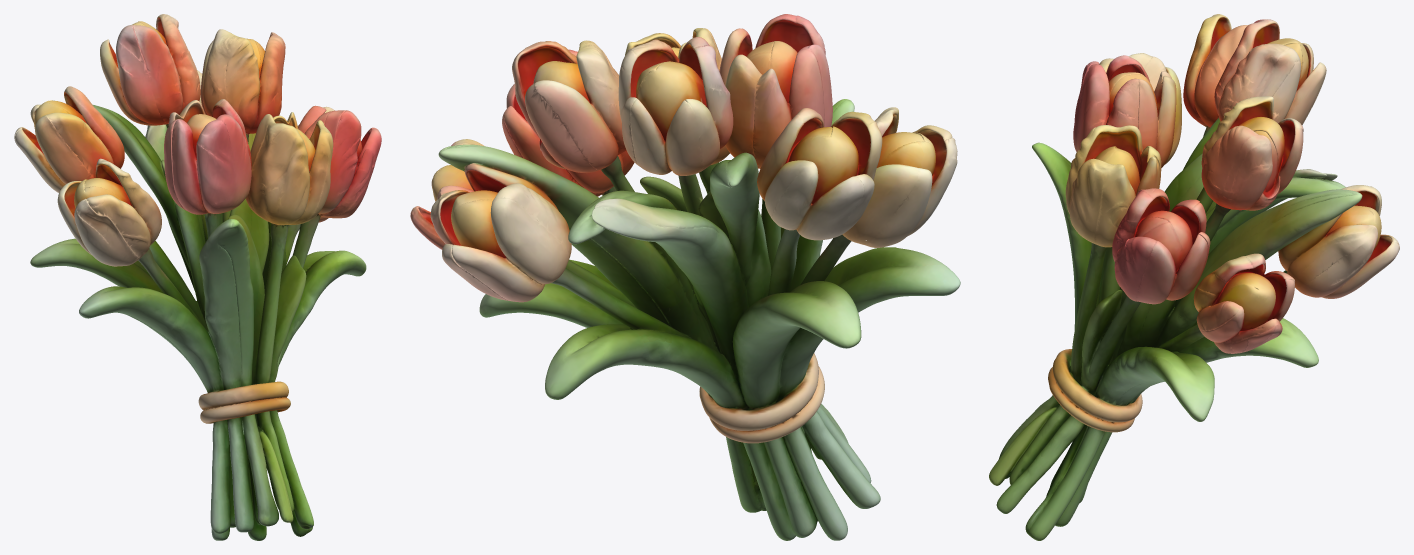
The model's file is yakap-tulips.glb.
3 renders of one model, left to right at view 1: azimuth 30°, elevation 25°; view 2: azimuth 150°, elevation 25°; view 3: azimuth 270°, elevation 25°, orthographic. The views are drawn at different scales.
Parts seen in each view (by area): view 1: tripo_node_bc6ab51e-1489-4397-ac18-faa981cd80e4; view 2: tripo_node_bc6ab51e-1489-4397-ac18-faa981cd80e4; view 3: tripo_node_bc6ab51e-1489-4397-ac18-faa981cd80e4.
Boxes of the visible parts, bbox=[...] form: tripo_node_bc6ab51e-1489-4397-ac18-faa981cd80e4: bbox=[14, 14, 381, 540]; tripo_node_bc6ab51e-1489-4397-ac18-faa981cd80e4: bbox=[410, 14, 960, 540]; tripo_node_bc6ab51e-1489-4397-ac18-faa981cd80e4: bbox=[989, 14, 1399, 540].
Size of the model in its own units: 0.7956 by 1 by 0.7596.
Materials: 1 (1 with a texture image).
